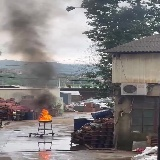fire: (38, 108, 52, 120)
